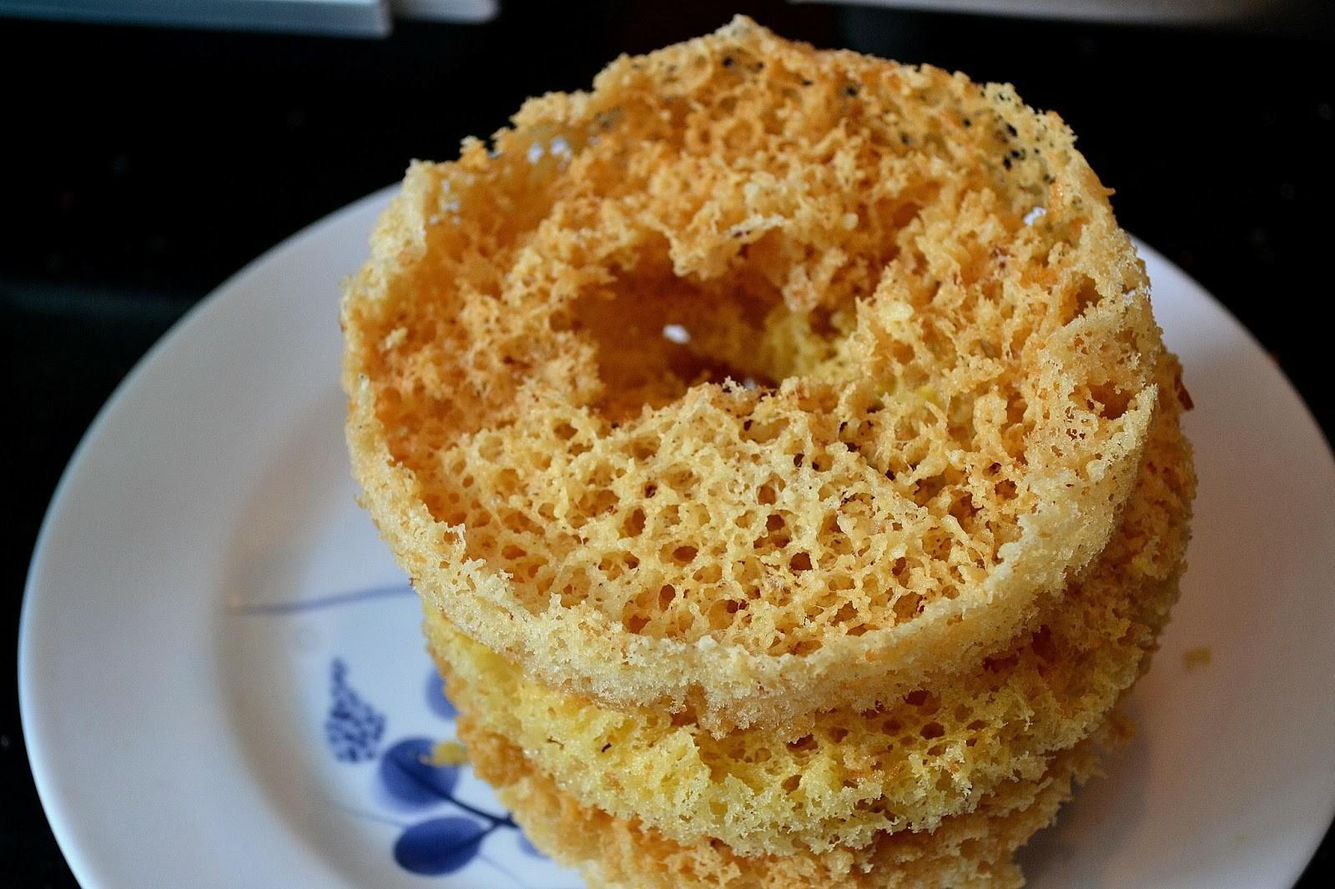Ghevar: (345, 8, 1166, 709), (422, 369, 1200, 865)
